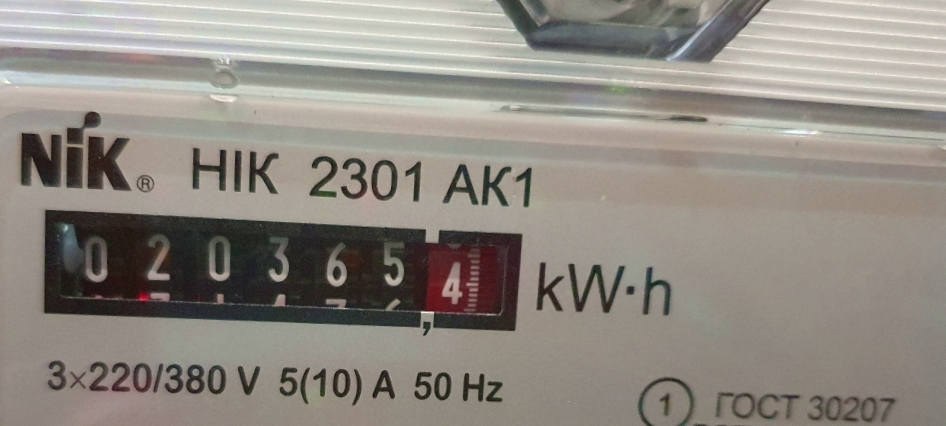0: (78, 229, 113, 286), (203, 232, 235, 283)
2: (142, 230, 174, 282)
3: (263, 233, 294, 284)
4: (438, 256, 464, 306)
5: (379, 239, 408, 287)
6: (322, 236, 350, 288)
screen: (25, 191, 539, 352)
